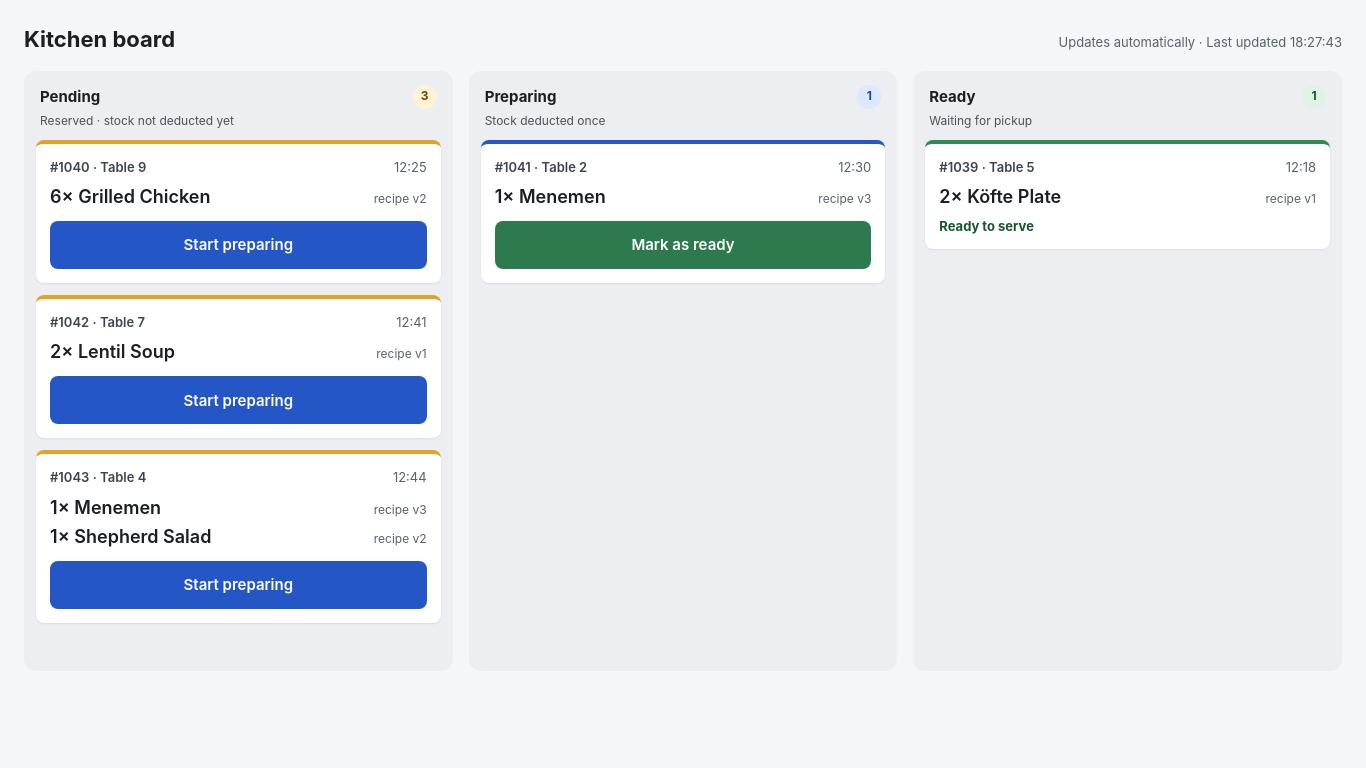
Test: KitchenBoardPage › shows "already started" on a 409 for Start preparing and reloads the board
Expected: the element "Pending" is shown, [24,71,453,671]
What coordinates should you click on to do the following:
click the button with aria-label "Start preparing order #1042"
I would click on:
 (238, 400)
Its box is [50,376,427,424].
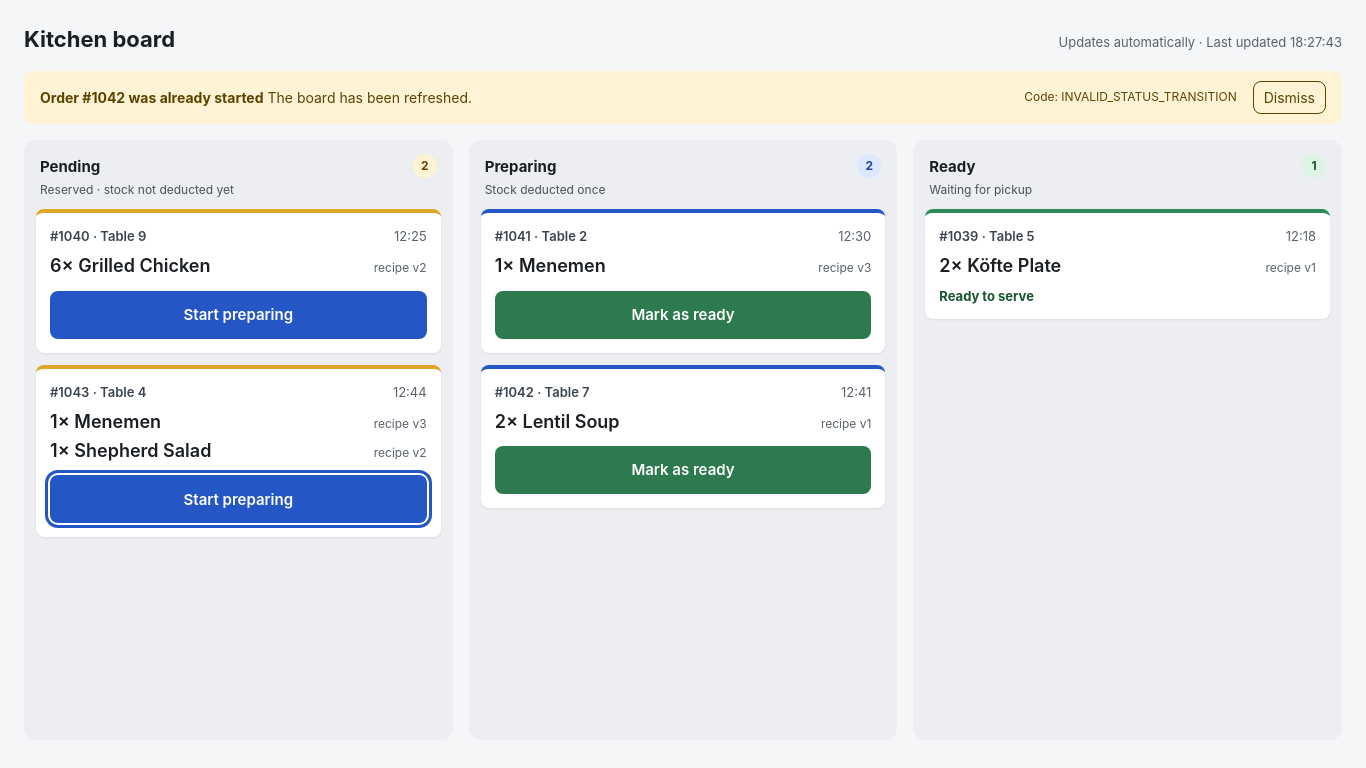
Expected: the heading "#1042 · Table 7" is shown, [495,383,590,401]
Result: the message shows "Order #1042 was already started" at [40,89,264,106]
Result: the message shows "INVALID_STATUS_TRANSITION" at [1061,89,1237,104]
